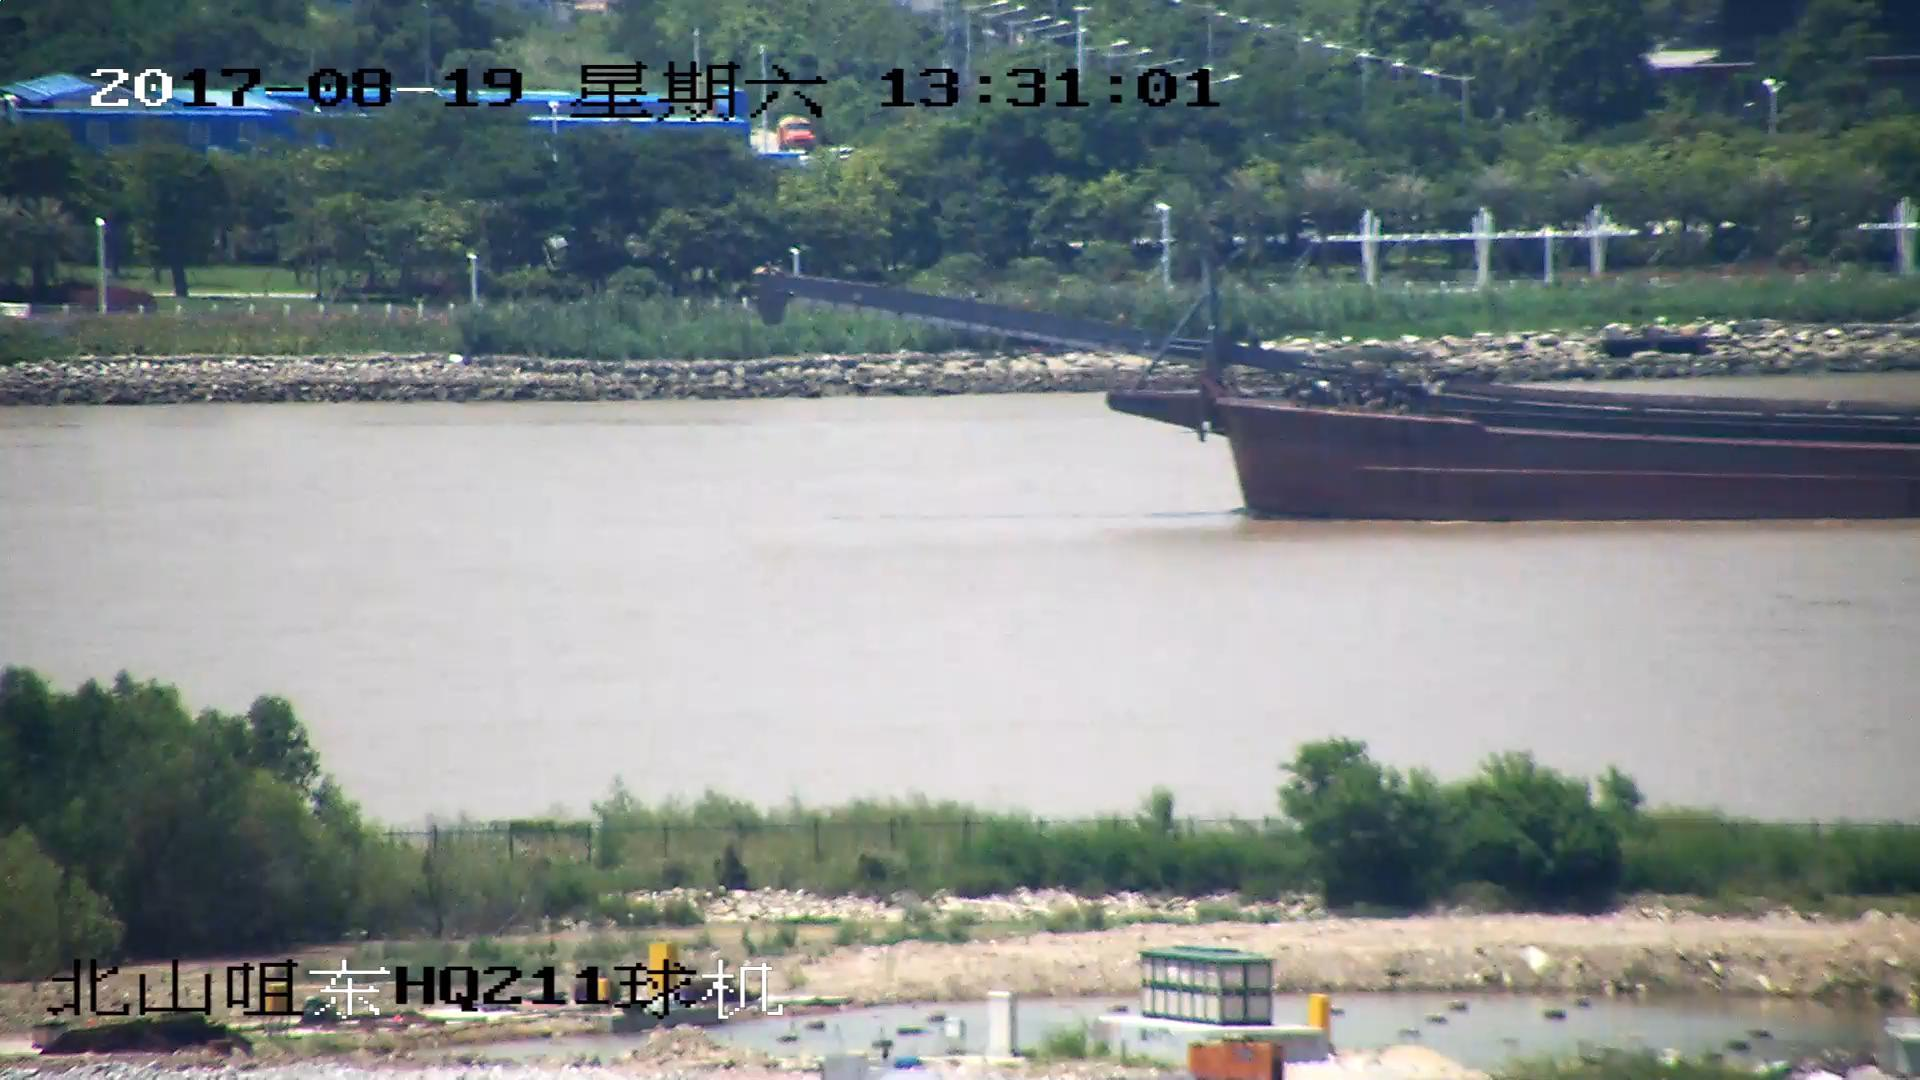Ship: (766, 262, 1920, 524)
